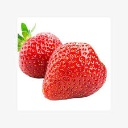strawberry: (42, 41, 106, 100), (19, 30, 69, 82)
